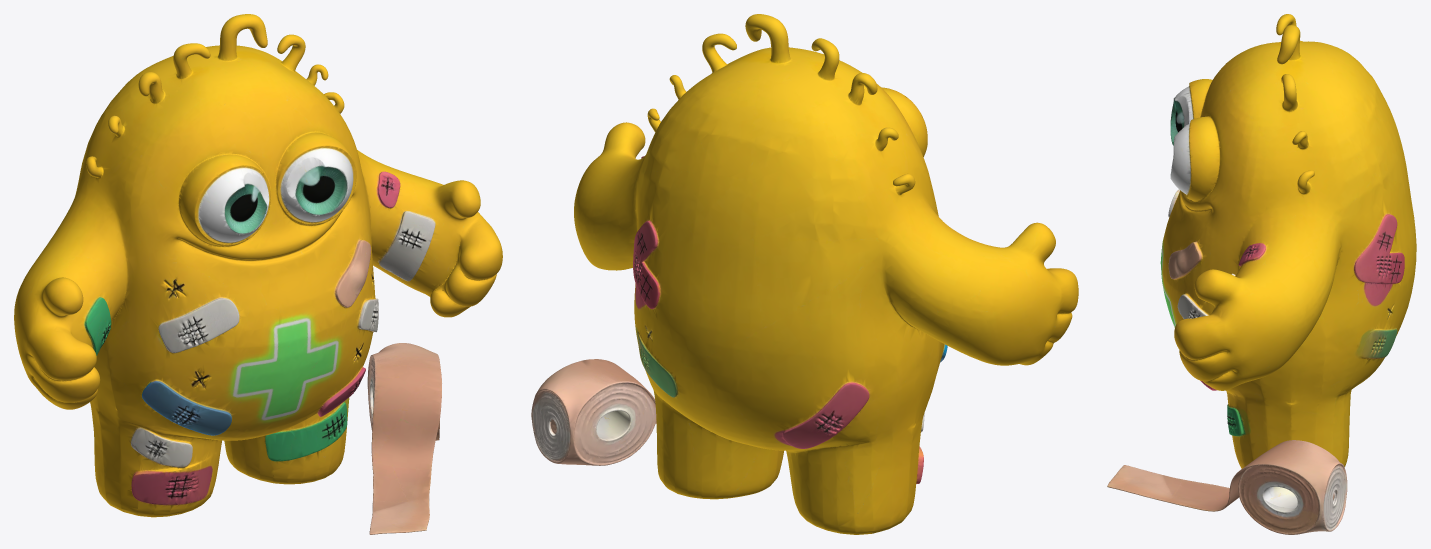
Rendered from recovery.glb.
3 renders of one model, left to right at view 1: azimuth 30°, elevation 25°; view 2: azimuth 150°, elevation 25°; view 3: azimuth 270°, elevation 25°, orthographic. The views are drawn at different scales.
Size of the model in its own units: 1.89 by 1.82 by 1.2.
Materials: 1 (1 with a texture image).
